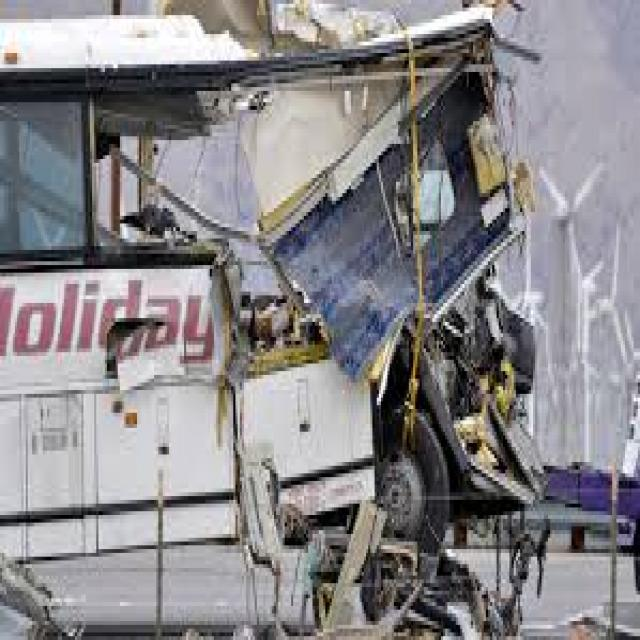accident: (28, 4, 640, 636)
